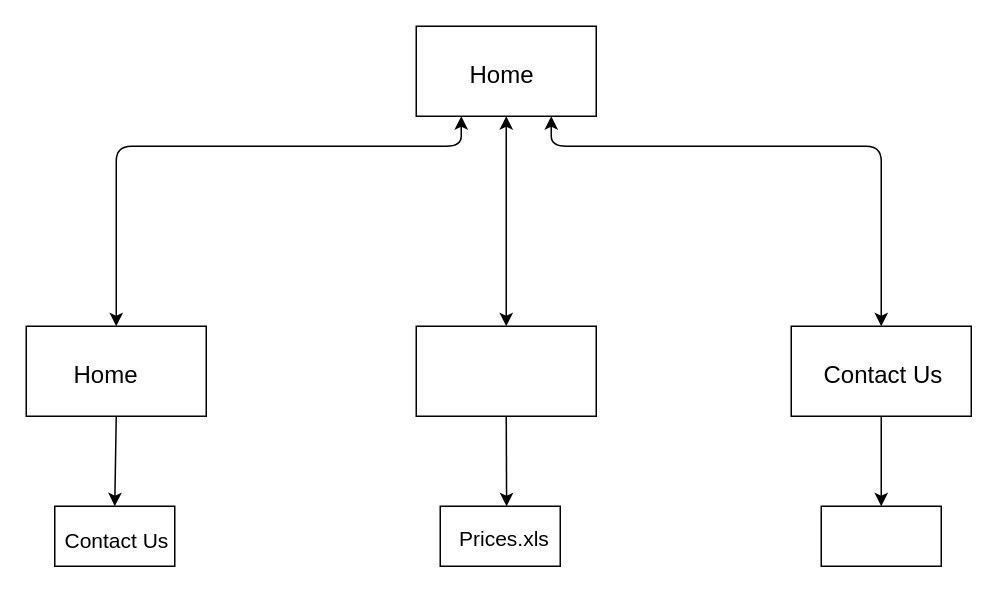
Some shapes in this 998 by 593 pixel diagram are drawn without their labels. The shapes that lost their labels are listed below. From the top down, each one's box as (x1, y1, x2, y2) in pixels, then its label:
(415, 325, 596, 416): About Us
(820, 505, 941, 566): Sign Up
